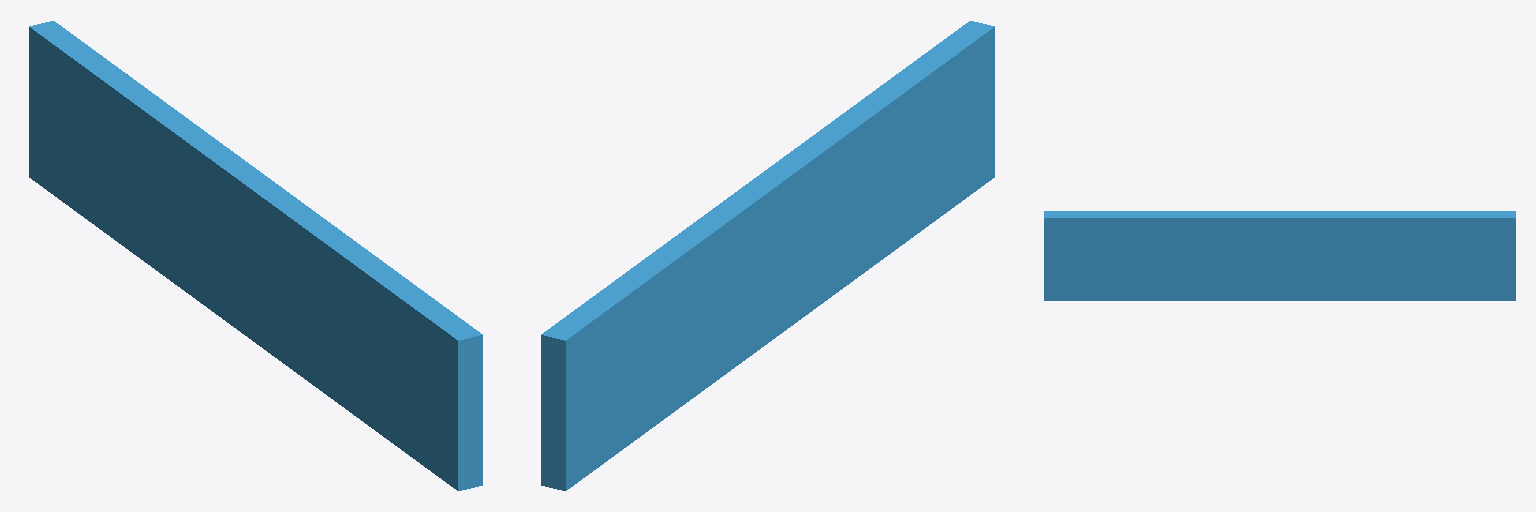
URDF robot description (box_85):
<?xml version="1.0" encoding="utf-8"?>    
    
    <robot name="box_85">
        <link name="box_85">    
            <fem>
                <origin rpy="0.0 0.0 0.0" xyz="0 0 0" />
                <density value="100" />
                <youngs value="4024"/>
                <poissons value="0.3" />
                <damping value="0.0" />
                <attachDistance value="0.01" />
                <tetmesh filename="[local-path]/sim_data/Custom/Custom_mesh/multi_boxes_5kPa/box_85.tet" />
                <scale value="0.5"/>
            </fem>
        </link>

        <link name="fix_frame">
            <visual>
                <origin xyz="-10.1 0.0 0.0"/>              
                <geometry>
                    <box size="0.005 0.15 0.029039839549282367"/>
                </geometry>
            </visual>
            <collision>
                <origin xyz="-0.1 0.0 0.0"/>              
                <geometry>
                    <box size="0.005 0.15 0.029039839549282367"/>
                </geometry>
            </collision>
            <inertial>
                <mass value="500000"/>
                <inertia ixx="0.05" ixy="0.0" ixz="0.0" iyy="0.05" iyz="0.0" izz="0.05"/>
            </inertial>
        </link>
        
        <joint name = "attach" type = "fixed">
            <origin xyz = "0.0 0.0 0.0" rpy = "0 0 0"/>
            <parent link ="box_85"/>
            <child link = "fix_frame"/>
        </joint>  




    </robot>
    

--- Facts derived from the render (not from the file) ---
Views: 3 orthographic renders of the robot side by side, from view 1: azimuth 30°, elevation 25°; view 2: azimuth 150°, elevation 25°; view 3: azimuth 270°, elevation 25°.
Model box_85 with 2 links and 1 joints (1 fixed), rooted at box_85, posed all joints at 0.
Visible links, largest first — view 1: fix_frame; view 2: fix_frame; view 3: fix_frame.
Link boxes in pixels (box(x1,y1,x2,y2)): fix_frame: box(29, 21, 482, 490); fix_frame: box(541, 21, 994, 490); fix_frame: box(1044, 211, 1515, 300).
Bounding box of the posed robot: 0.005 × 0.15 × 0.029 m (x, y, z).
Geometry: primitives only (box / cylinder / sphere), no mesh files.